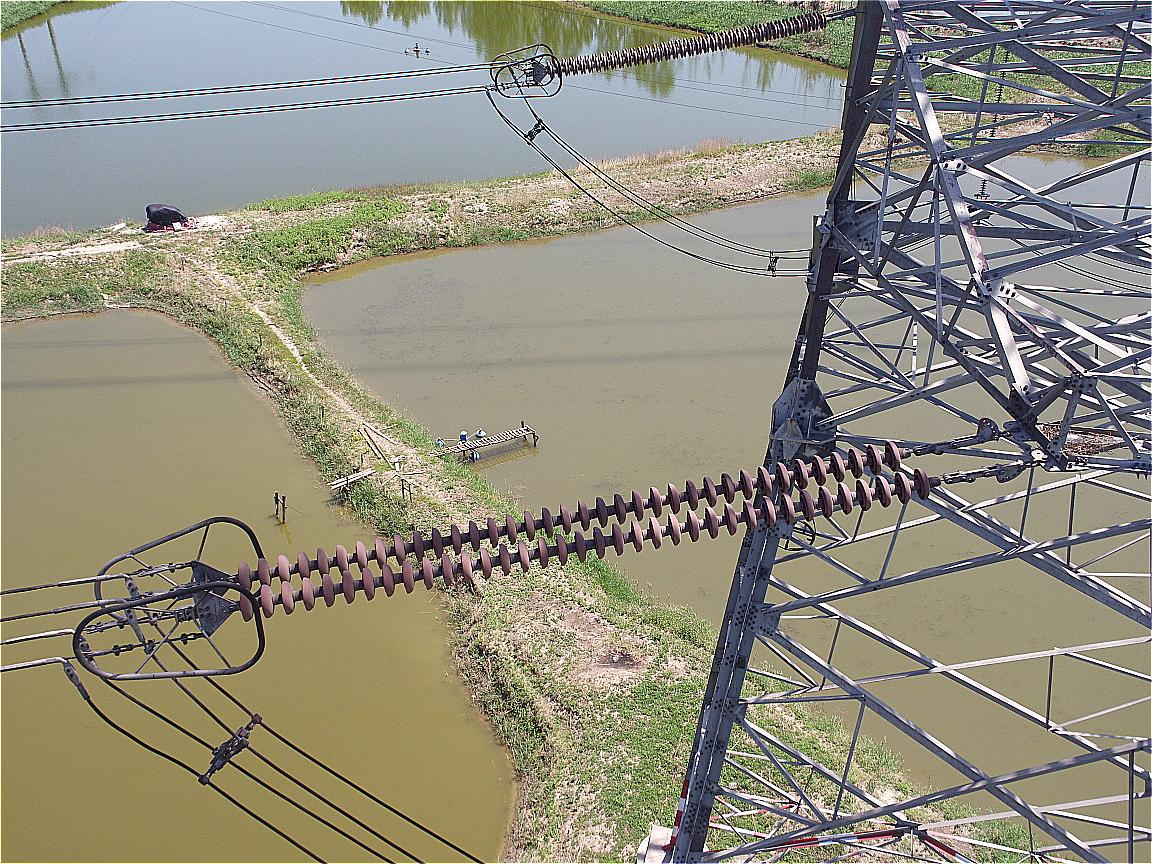insultor1: (238, 443, 931, 619)
insultor2: (546, 10, 829, 79)
